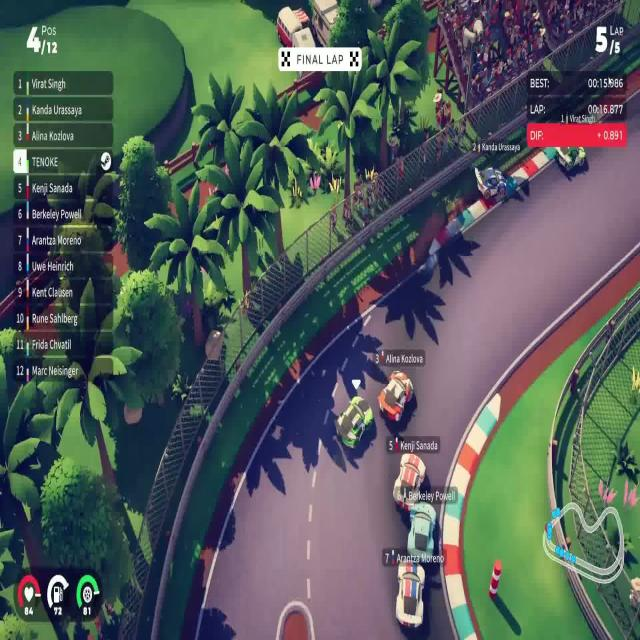car: (394, 556, 426, 630), (334, 394, 374, 451), (392, 452, 427, 512), (377, 369, 414, 423), (406, 501, 436, 562), (276, 5, 310, 48), (475, 164, 510, 204)
